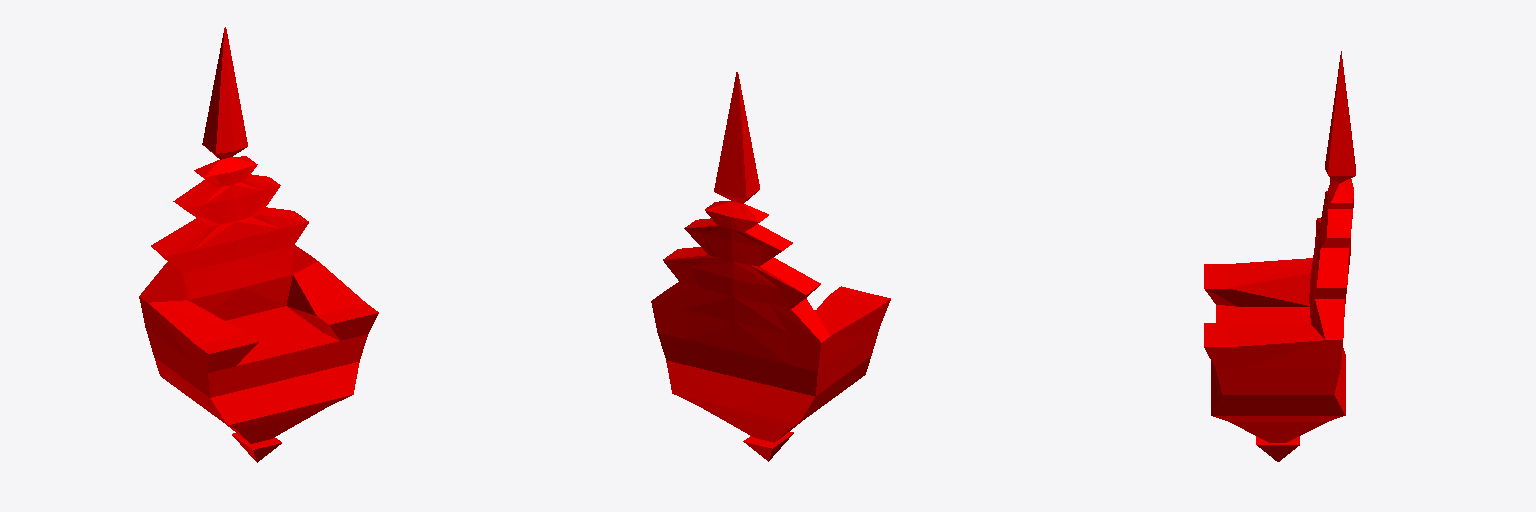
The model's file is ThroneOBJ.obj.
3 views of the same model, side by side, from view 1: azimuth 30°, elevation 25°; view 2: azimuth 150°, elevation 25°; view 3: azimuth 270°, elevation 25° (orthographic).
Visible parts, largest first — view 1: pCube1; view 2: pCube1; view 3: pCube1.
Boxes of the visible parts, x1,y1,x2,y2 form: pCube1: [139, 27, 378, 462]; pCube1: [651, 72, 890, 461]; pCube1: [1204, 51, 1355, 461].
Size of the model in its own units: 5.19 by 11.99 by 4.01.